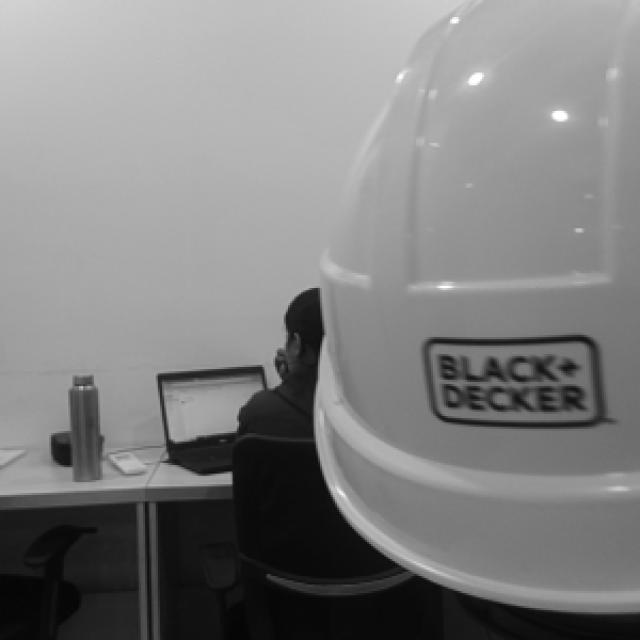safety_helmet: (311, 0, 639, 614)
